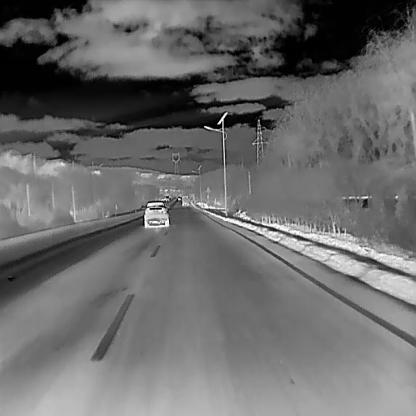bus: (181, 194, 189, 208), (165, 194, 170, 202)
car: (142, 198, 170, 228), (177, 195, 181, 201)
